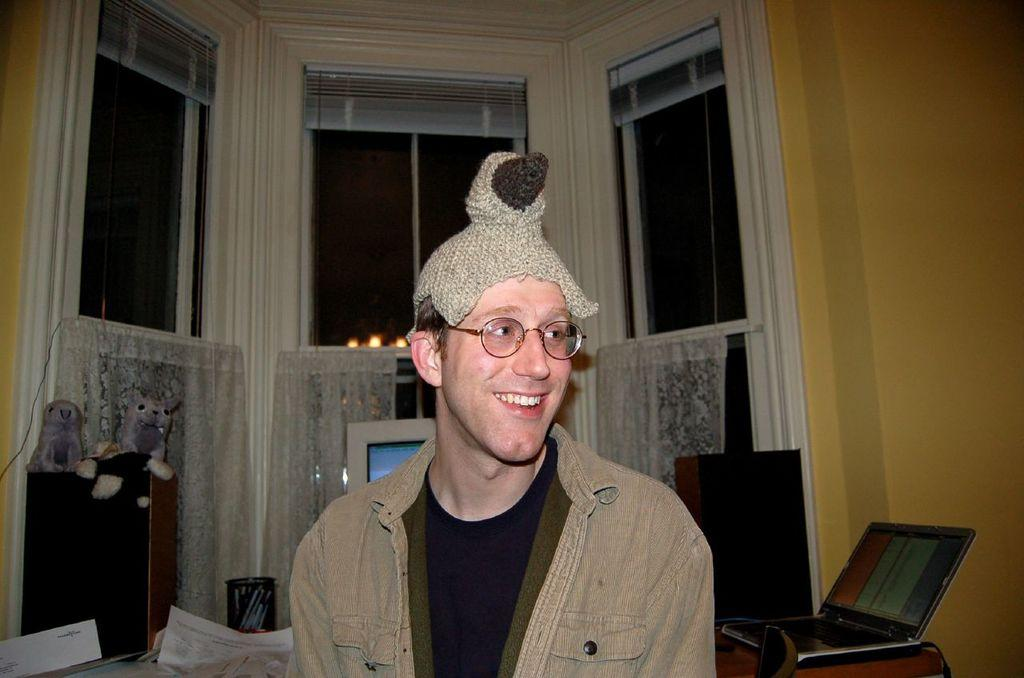Laptop: (751, 505, 1002, 671)
